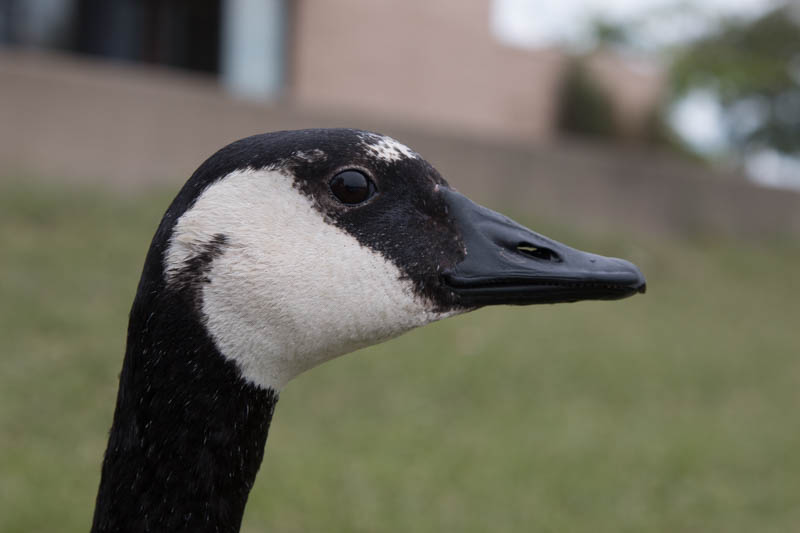goose-head: (130, 126, 647, 396)
